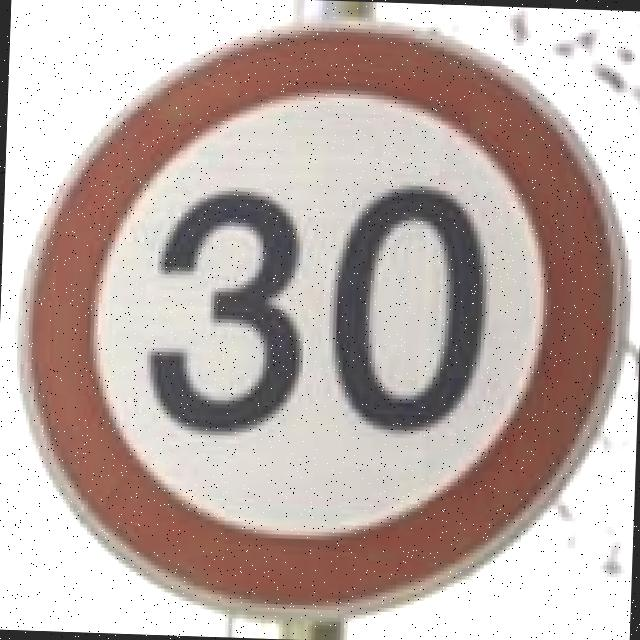Ograniczenie predkosci do 30: (1, 1, 626, 623)
